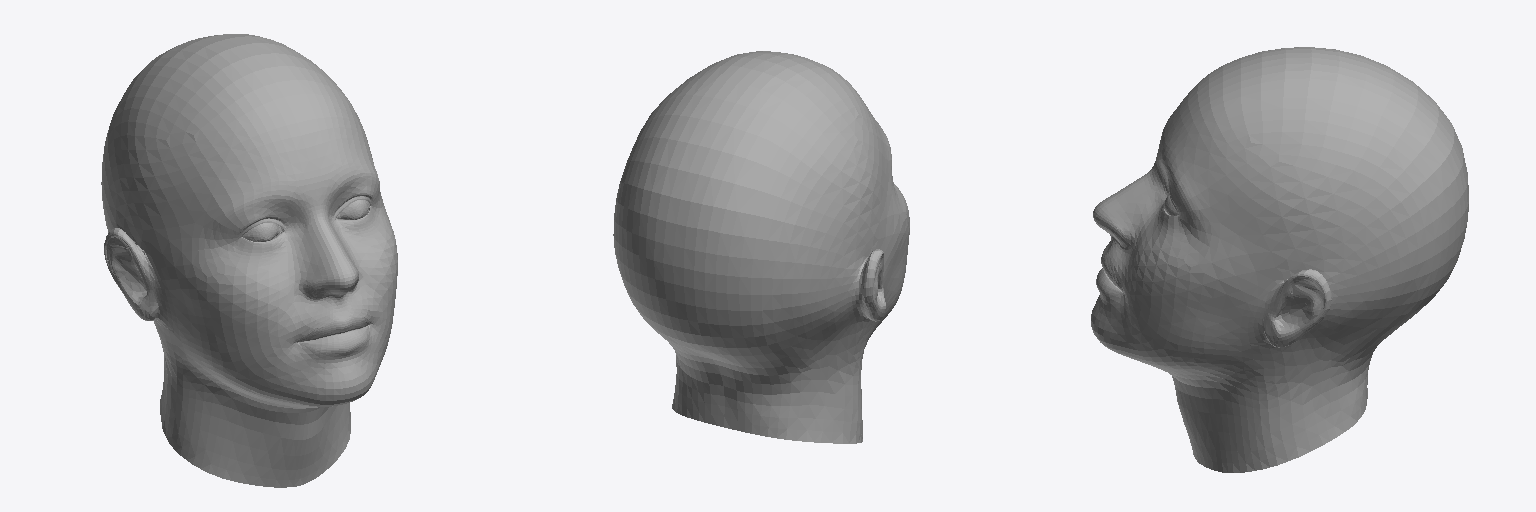
File: TestFace.obj
3 renders of one model, left to right at view 1: azimuth 30°, elevation 25°; view 2: azimuth 150°, elevation 25°; view 3: azimuth 270°, elevation 25°, orthographic.
Visible parts, largest first — view 1: FaceGen; view 2: FaceGen; view 3: FaceGen.
Boxes of the visible parts, x1,y1,x2,y2 form: FaceGen: [101, 34, 397, 487]; FaceGen: [613, 51, 909, 443]; FaceGen: [1091, 47, 1468, 472].
Size of the model in its own units: 191 by 281 by 243.